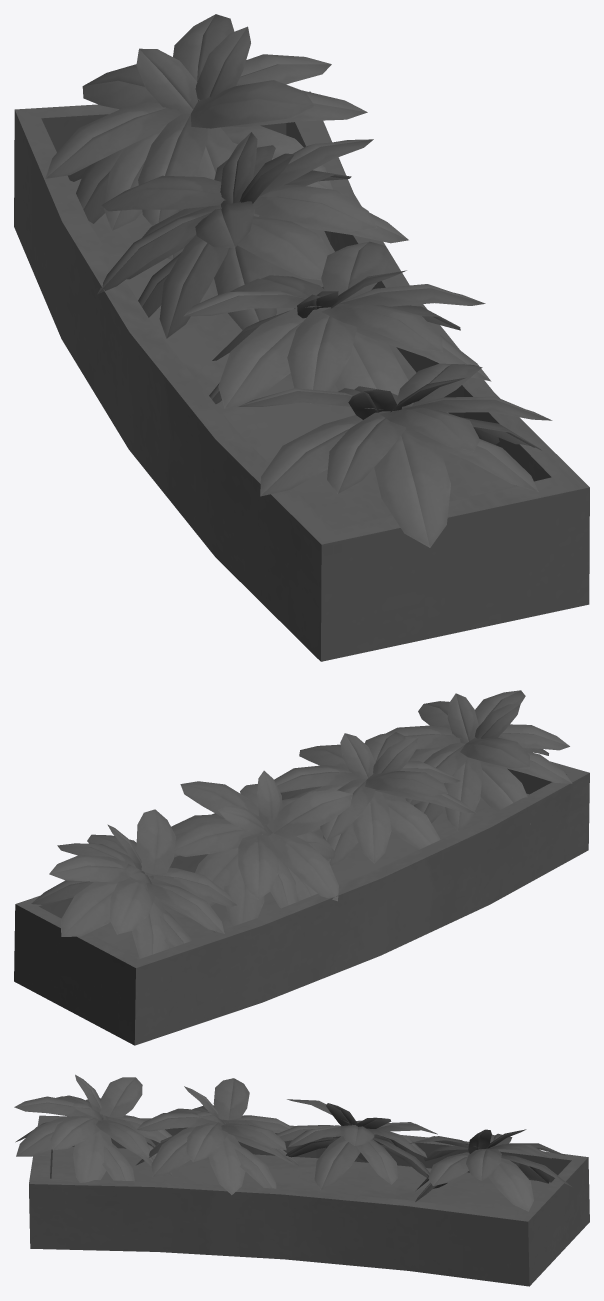
The model's file is PlantBase.fbx.
3 renders of one model, top to bottom at view 1: azimuth 30°, elevation 25°; view 2: azimuth 150°, elevation 25°; view 3: azimuth 270°, elevation 25°, orthographic. The views are drawn at different scales.
Parts seen in each view (by area): view 1: plantBase1 (3), bushLeaf_merged (4), bushLeaf_merged (5), bushLeaf_merged (6), bushLeaf_merged (7); view 2: plantBase1 (3), bushLeaf_merged (5), bushLeaf_merged (4), bushLeaf_merged (6), bushLeaf_merged (7); view 3: plantBase1 (3), bushLeaf_merged (6), bushLeaf_merged (7), bushLeaf_merged (5), bushLeaf_merged (4).
Part boxes in pixels (x1,y1,x2,y2): plantBase1 (3): (14,91,589,661); bushLeaf_merged (4): (45,14,367,259); bushLeaf_merged (5): (97,132,408,338); bushLeaf_merged (6): (184,241,491,414); bushLeaf_merged (7): (237,363,552,547); plantBase1 (3): (14,761,589,1045); bushLeaf_merged (5): (171,770,352,926); bushLeaf_merged (4): (31,809,237,958); bushLeaf_merged (6): (274,732,475,865); bushLeaf_merged (7): (386,690,572,831); plantBase1 (3): (29,1115,589,1286); bushLeaf_merged (6): (136,1078,299,1194); bushLeaf_merged (7): (14,1074,172,1182); bushLeaf_merged (5): (276,1099,437,1189); bushLeaf_merged (4): (409,1129,571,1211).
Bounding box in the file's own units: 6.15 × 3.33 × 12.36.
